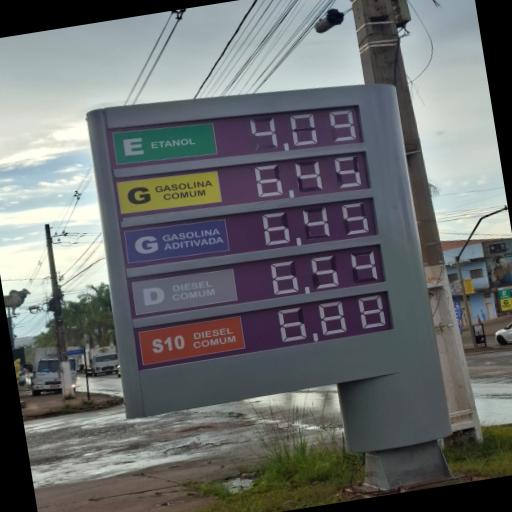ETANOL: (110, 121, 219, 161)
GASOLINA AD: (122, 218, 231, 262)
GASOLINA C: (117, 170, 221, 213)
S10: (136, 315, 247, 366)
S500: (129, 266, 243, 316)
placa: (99, 100, 424, 382)
preco: (271, 288, 390, 346), (256, 195, 378, 249), (234, 107, 365, 155), (268, 245, 383, 297), (249, 153, 371, 202)
